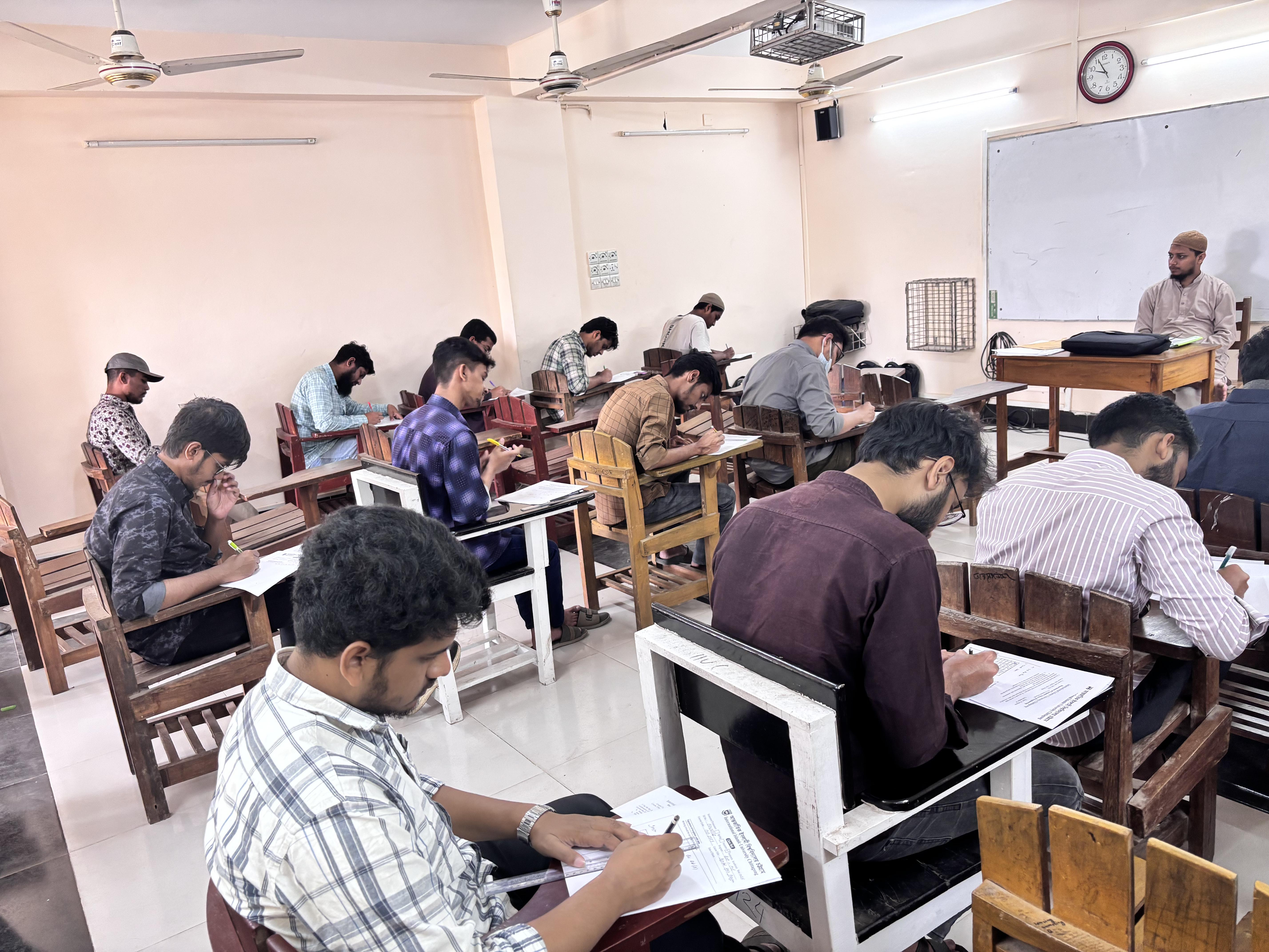invigilator: (1049, 207, 1259, 400)
no_cheating: (200, 489, 749, 952), (698, 392, 1083, 835), (938, 356, 1269, 702), (84, 396, 326, 658), (389, 332, 600, 567), (609, 340, 760, 517), (740, 307, 888, 469), (267, 320, 413, 484), (67, 343, 184, 480), (653, 274, 785, 382), (529, 294, 634, 421)
